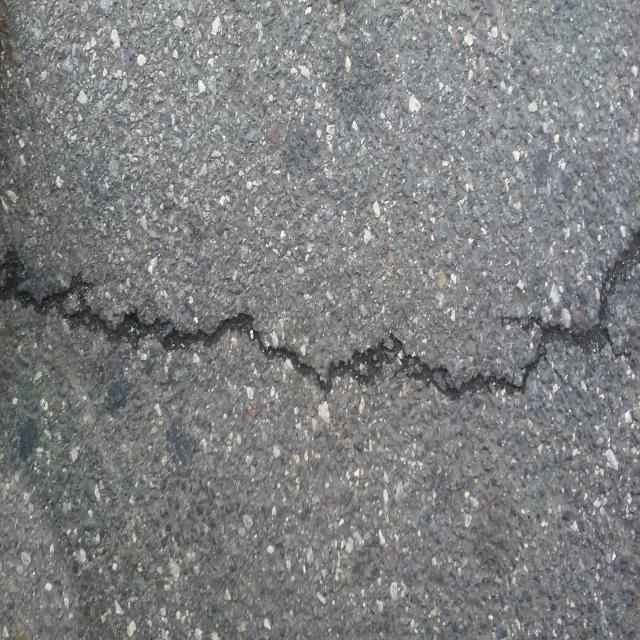transverse: (0, 179, 640, 436)
